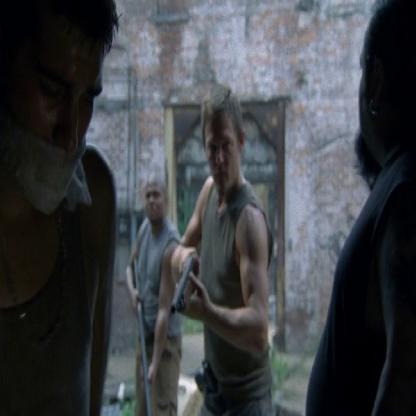Guns: (128, 255, 156, 415), (170, 252, 196, 324)
